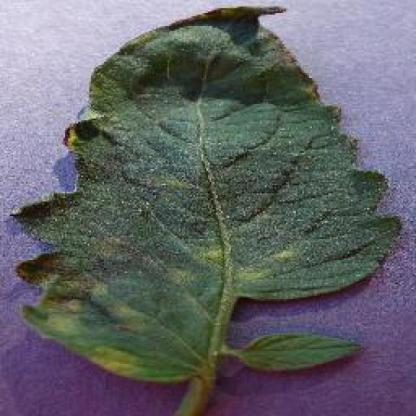Tomato_Leaf_Mold: (17, 6, 394, 376)
